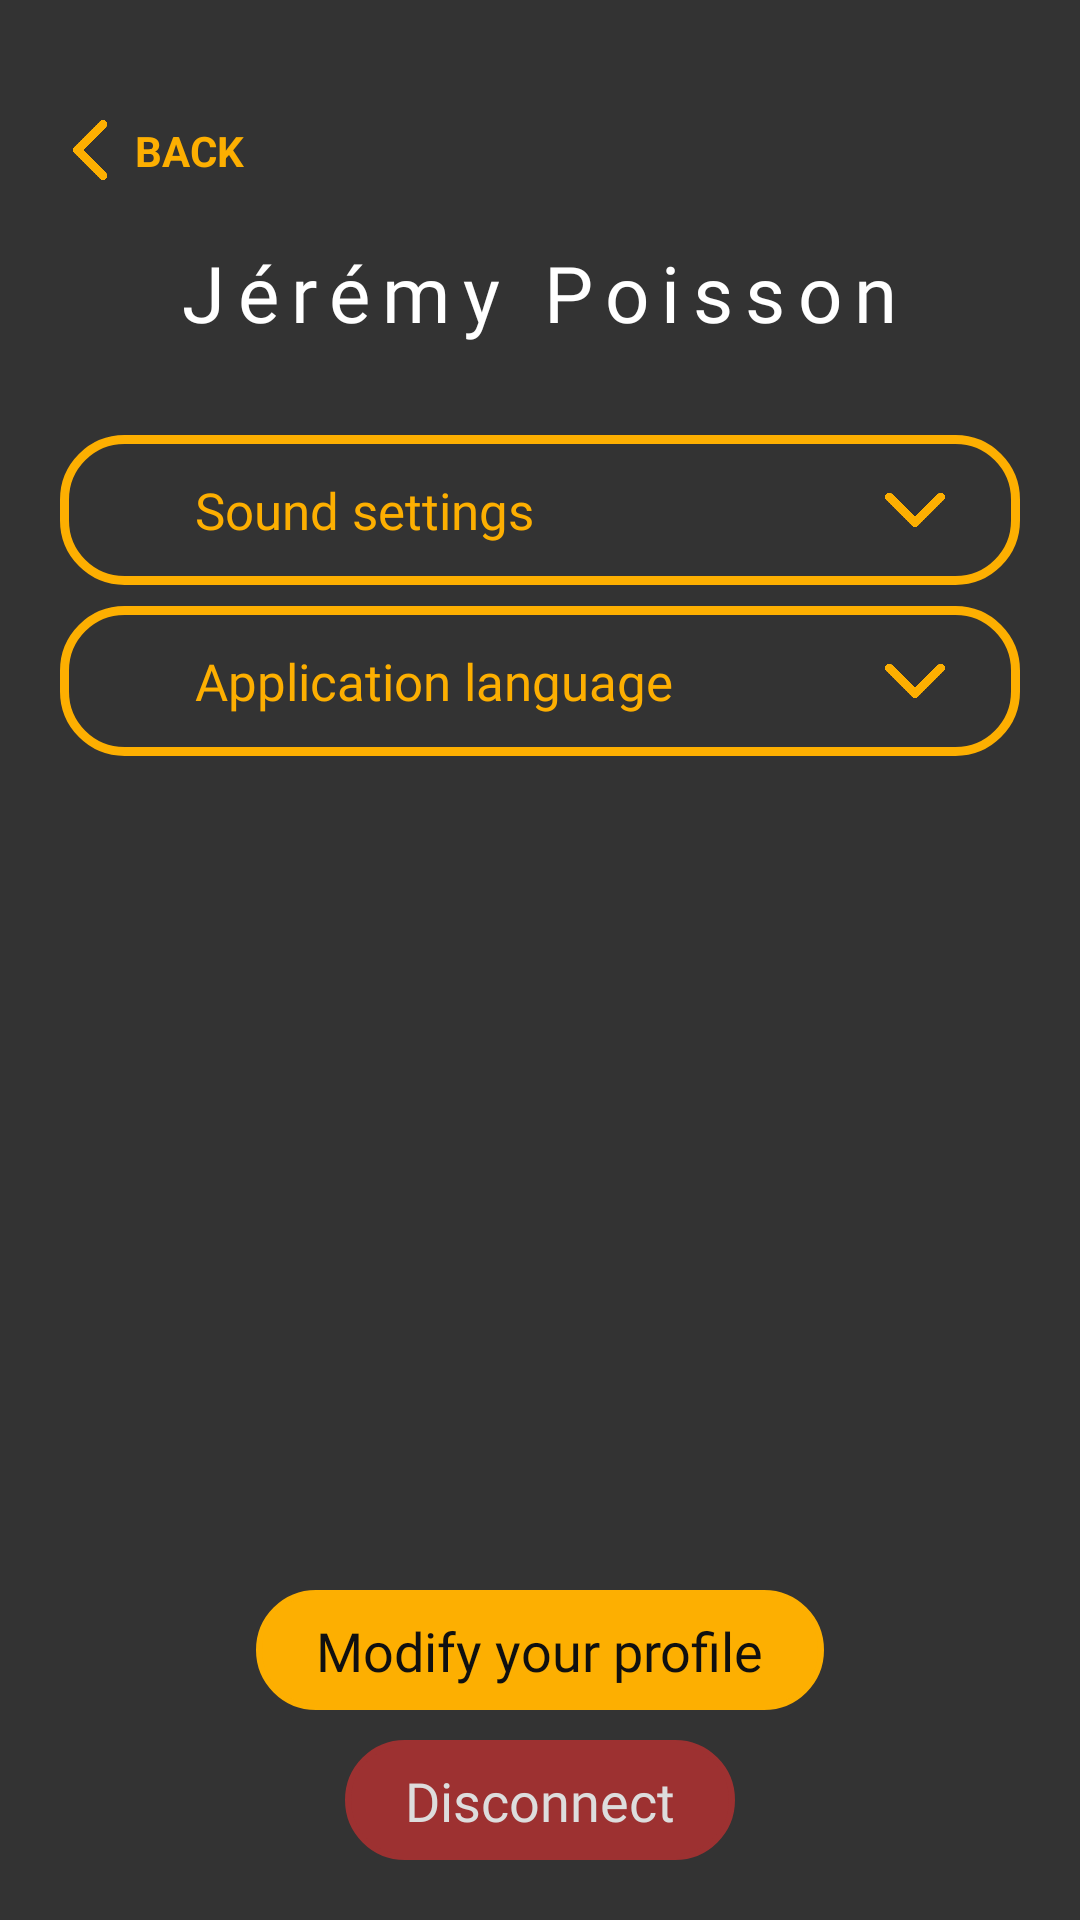

Where icons sit on this 1080px×1920px app screen, as detection(x1, y1, x2, y2):
down arrow: detection(885, 493, 945, 527), detection(885, 664, 945, 698)
left arrow: detection(73, 120, 107, 180)
